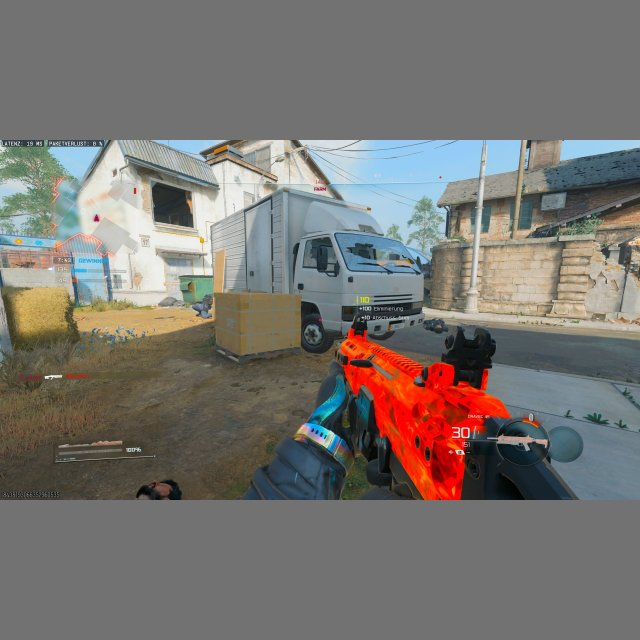player: (133, 271, 142, 290)
